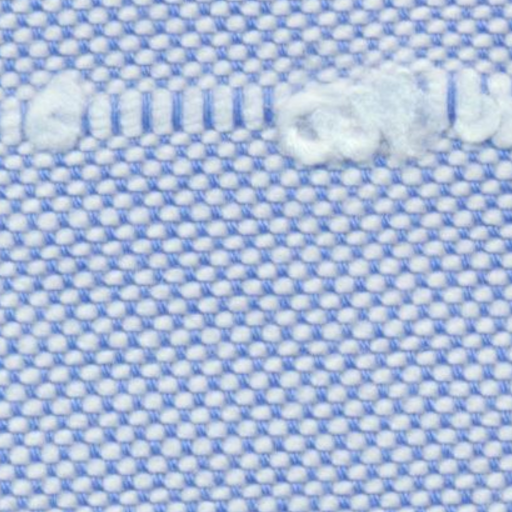DaiSha: (8, 54, 506, 190)
